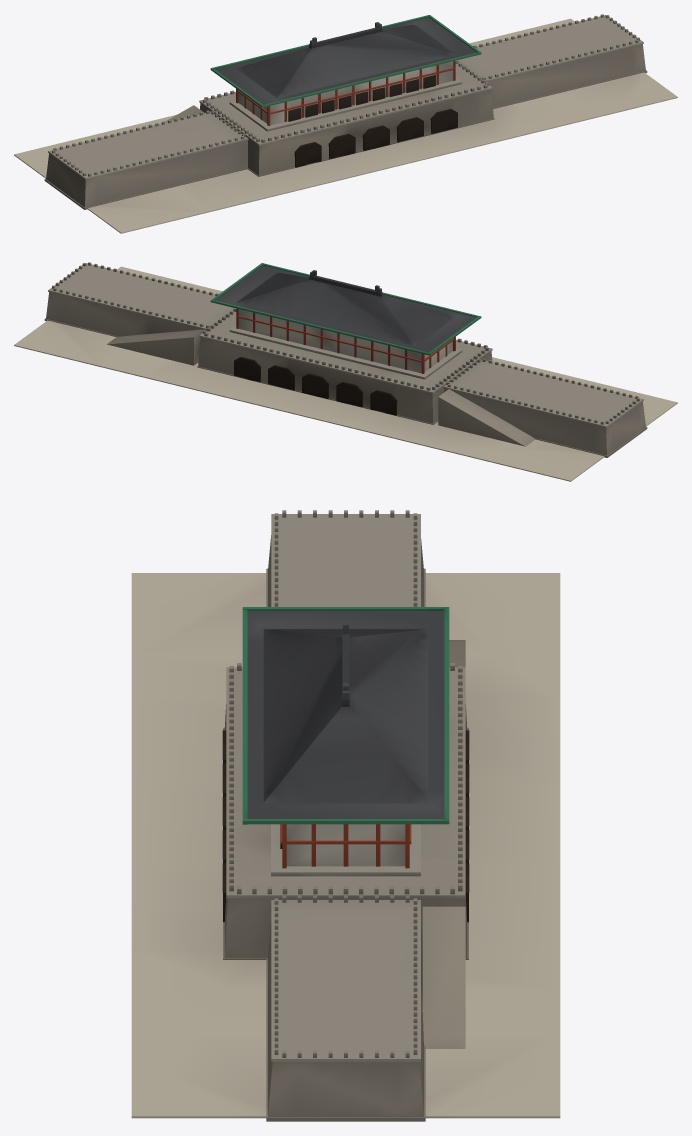
File: danfengmen.glb
3 views of the same model, one above another, from view 1: azimuth 30°, elevation 25°; view 2: azimuth 150°, elevation 25°; view 3: azimuth 270°, elevation 25° (orthographic). The views are drawn at different scales.
Parts seen in each view (by area): view 1: p0_gates, p2_roofs, p1_halls; view 2: p0_gates, p2_roofs, p1_halls; view 3: p0_gates, p2_roofs, p1_halls.
Boxes of the visible parts, x1,y1,x2,y2 form: p0_gates: (14, 14, 677, 233); p2_roofs: (210, 15, 481, 107); p1_halls: (229, 60, 462, 131); p0_gates: (14, 262, 677, 481); p2_roofs: (210, 263, 481, 355); p1_halls: (229, 308, 462, 379); p0_gates: (131, 510, 560, 1121); p2_roofs: (242, 607, 449, 824); p1_halls: (271, 824, 420, 876).
Size of the model in its own units: 182 by 29.79 by 60.
